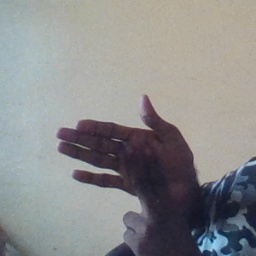N: (46, 92, 205, 249)
